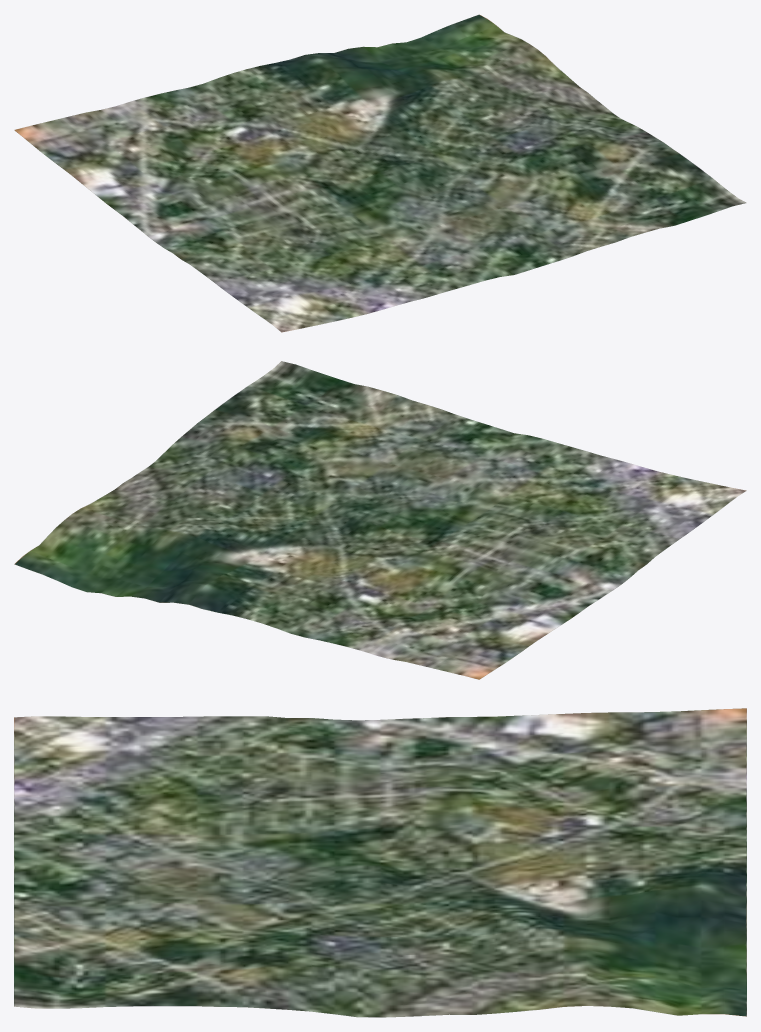
3 renders of one model, top to bottom at view 1: azimuth 30°, elevation 25°; view 2: azimuth 150°, elevation 25°; view 3: azimuth 270°, elevation 25°, orthographic. The views are drawn at different scales.
Bounding box in the file's own units: 1950 × 81.45 × 1942.
1 material, 1 textured.
